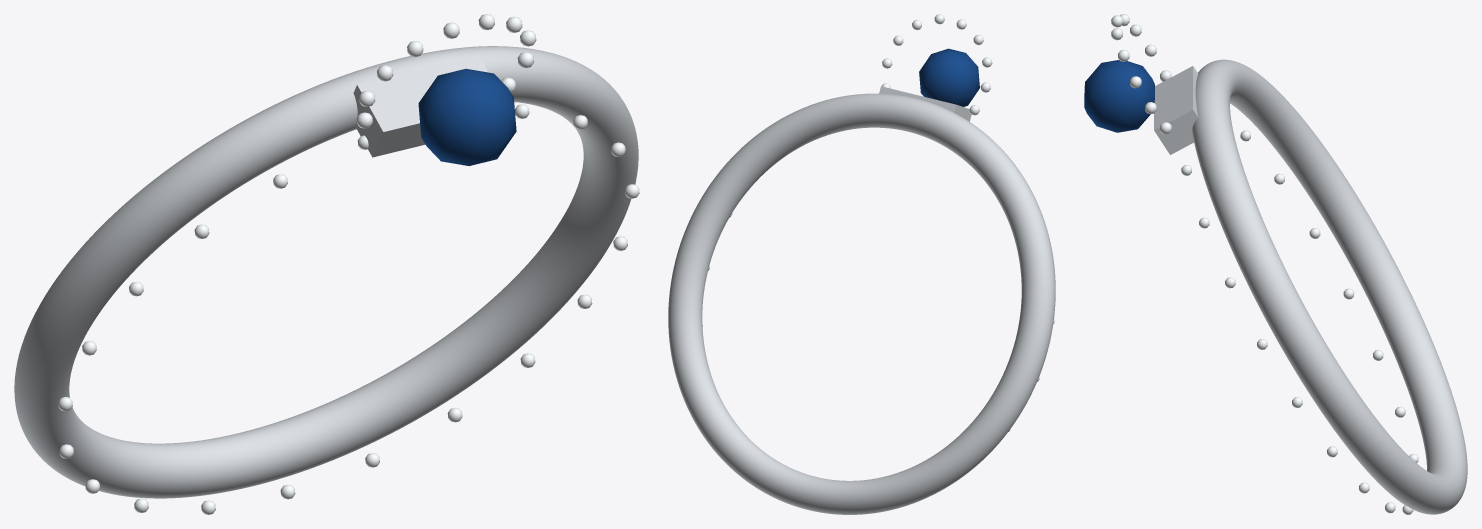
The model's file is astra-sapphire-band.glb.
3 renders of one model, left to right at view 1: azimuth 30°, elevation 25°; view 2: azimuth 150°, elevation 25°; view 3: azimuth 270°, elevation 25°, orthographic. The views are drawn at different scales.
Visible parts, largest first — view 1: gold_band, hero_gemstone, gold_setting; view 2: gold_band, hero_gemstone, gold_setting; view 3: gold_band, hero_gemstone, gold_setting.
Part boxes in pixels (x1,y1,x2,y2): gold_band: [14, 46, 638, 498]; hero_gemstone: [418, 68, 516, 165]; gold_setting: [353, 55, 488, 157]; gold_band: [668, 93, 1055, 514]; hero_gemstone: [919, 48, 979, 106]; gold_setting: [879, 86, 971, 121]; gold_band: [1192, 59, 1467, 514]; hero_gemstone: [1084, 60, 1154, 132]; gold_setting: [1154, 66, 1198, 155].
Size of the model in its own units: 2.24 by 2.29 by 1.69.
